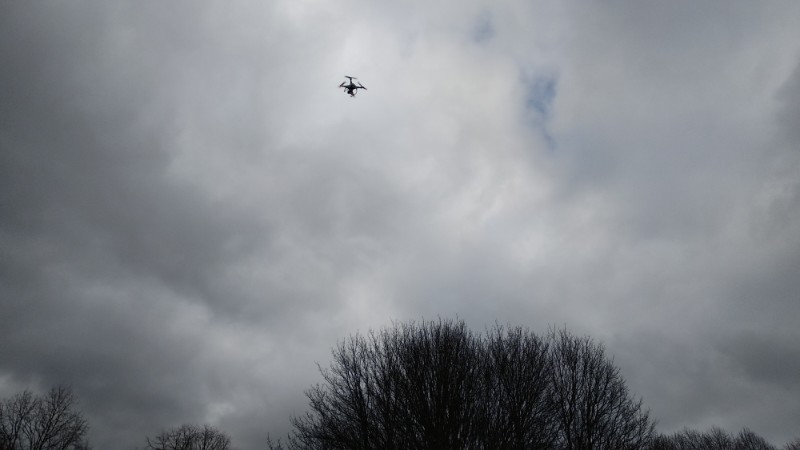drone: (338, 74, 368, 98)
